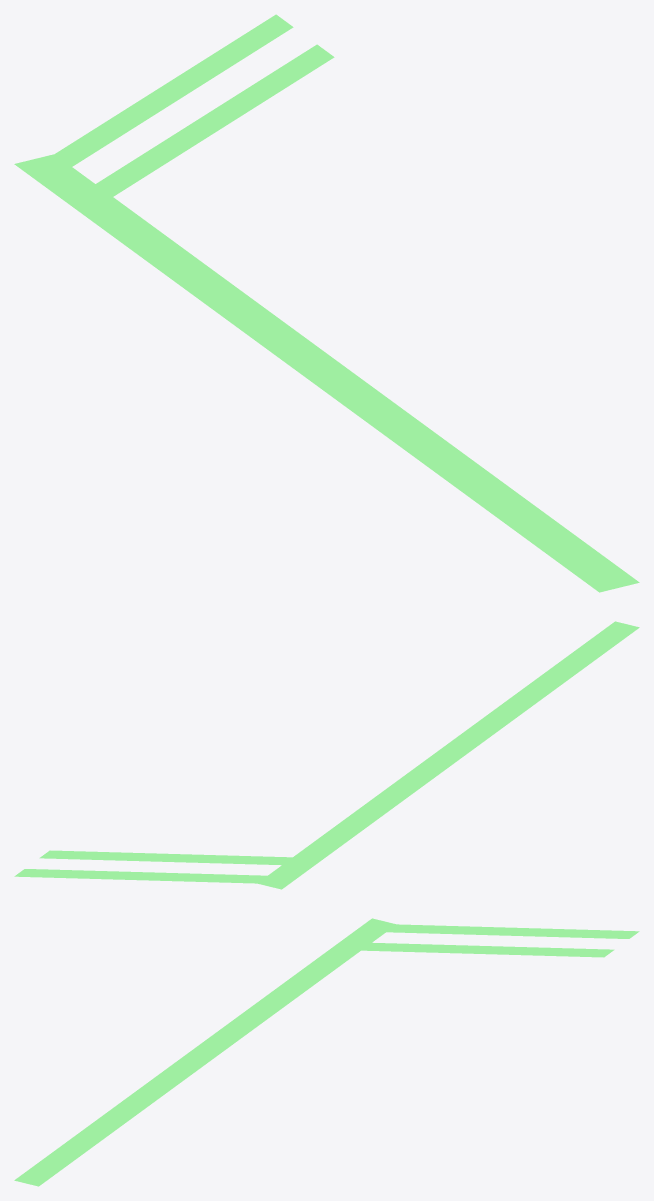
File: daes005nhemi01750225kts.dae
3 renders of one model, top to bottom at view 1: azimuth 30°, elevation 25°; view 2: azimuth 150°, elevation 25°; view 3: azimuth 330°, elevation 25°, orthographic. The views are drawn at different scales.
Parts seen in each view (by area): view 1: Plane; view 2: Plane; view 3: Plane.
Boxes of the visible parts, <box> form: Plane: <box>14,15,639,592</box>; Plane: <box>15,621,639,889</box>; Plane: <box>14,918,638,1186</box>.
Bounding box in the file's own units: 34.51 × 115 × 0.
